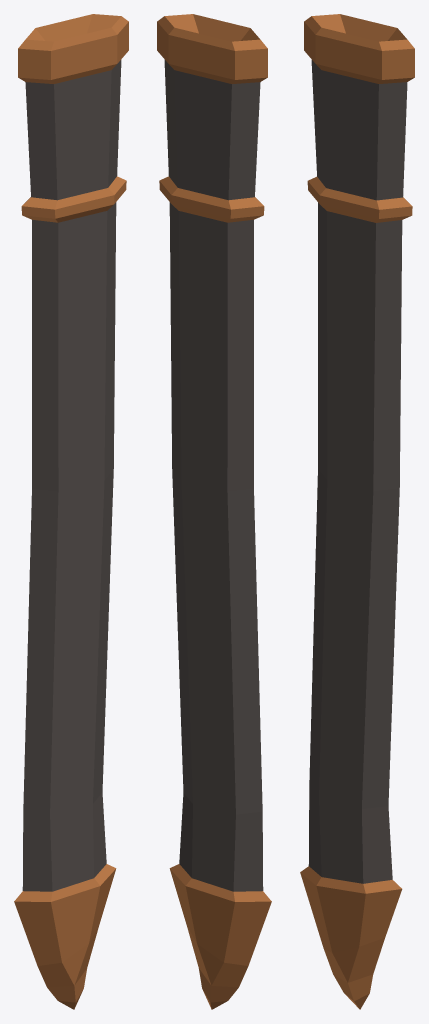
Rendered from SM_pwe_persia_sword_scabbard_01.fbx.
3 renders of one model, left to right at view 1: azimuth 30°, elevation 25°; view 2: azimuth 150°, elevation 25°; view 3: azimuth 330°, elevation 25°, orthographic.
Parts seen in each view (by area): view 1: SM_pwe_persia_sword_scabbard_01; view 2: SM_pwe_persia_sword_scabbard_01; view 3: SM_pwe_persia_sword_scabbard_01.
Part boxes in pixels (x1=…): SM_pwe_persia_sword_scabbard_01: x1=14, y1=14, x2=128, y2=1009; SM_pwe_persia_sword_scabbard_01: x1=157, y1=14, x2=271, y2=1009; SM_pwe_persia_sword_scabbard_01: x1=300, y1=14, x2=414, y2=1009.
Size of the model in its own units: 7.96 by 65.07 by 2.58.
